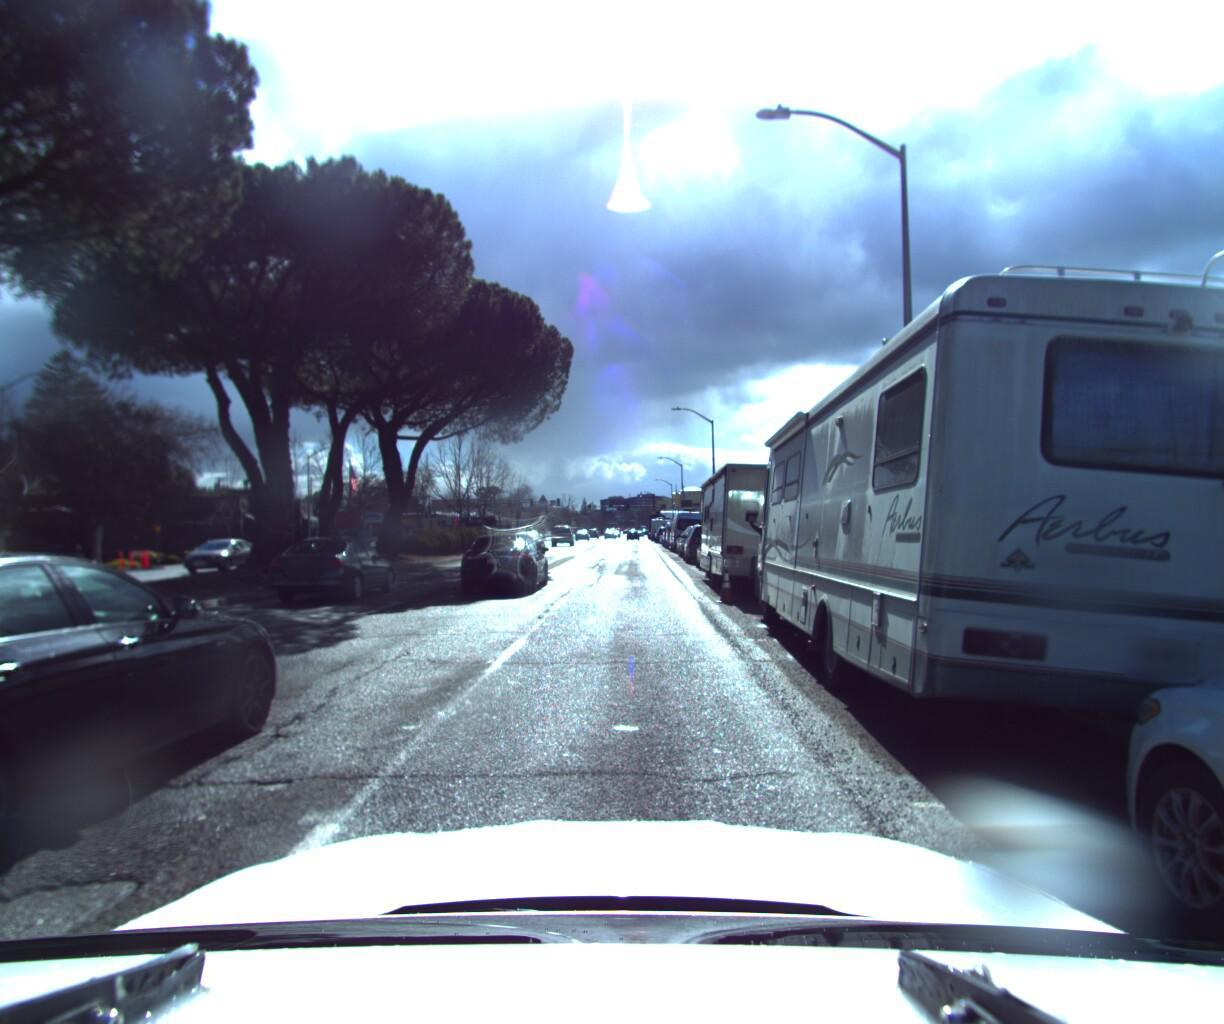car: (0, 538, 298, 1024), (267, 532, 400, 603), (458, 527, 553, 594), (181, 537, 268, 575), (679, 517, 735, 562), (667, 502, 708, 550), (674, 520, 724, 556), (0, 550, 17, 597), (551, 520, 579, 539)
other_vehicle: (743, 199, 1224, 828), (691, 436, 864, 600)
